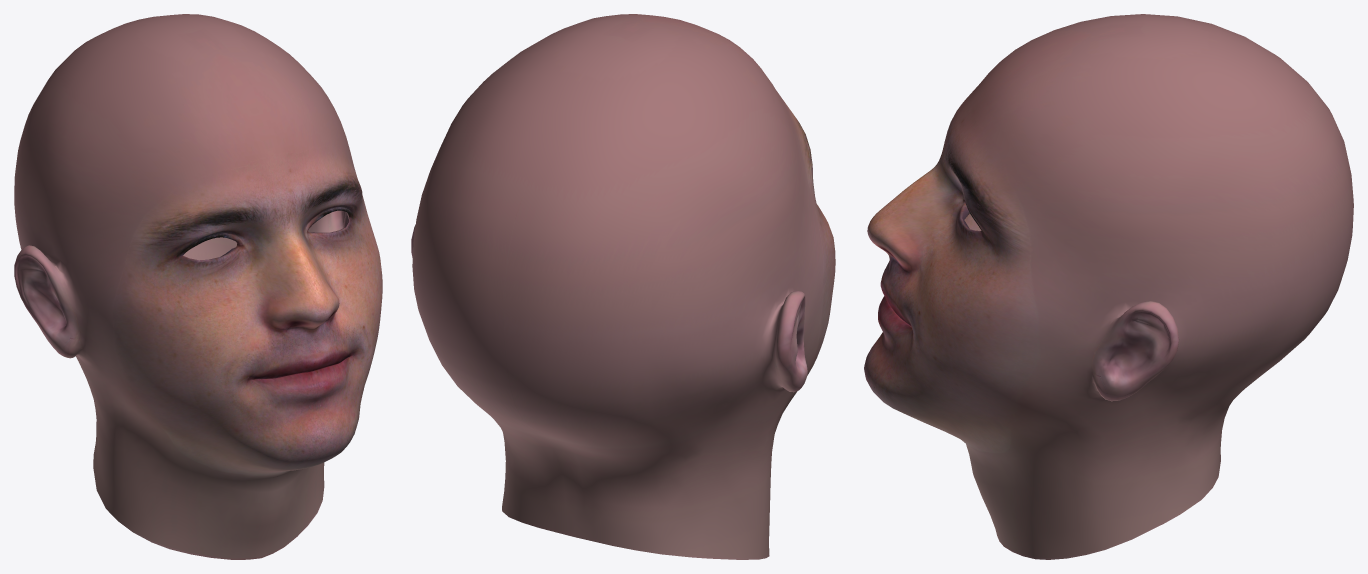
3 renders of one model, left to right at view 1: azimuth 30°, elevation 25°; view 2: azimuth 150°, elevation 25°; view 3: azimuth 270°, elevation 25°, orthographic. The views are drawn at different scales.
Parts seen in each view (by area): view 1: FaceGen; view 2: FaceGen; view 3: FaceGen.
Part boxes in pixels (left/top/right/bottom): FaceGen: left=14, top=14, right=382, bottom=559; FaceGen: left=411, top=14, right=835, bottom=559; FaceGen: left=864, top=14, right=1353, bottom=559.
Size of the model in its own units: 202 by 279 by 245.
1 material, 1 textured.
